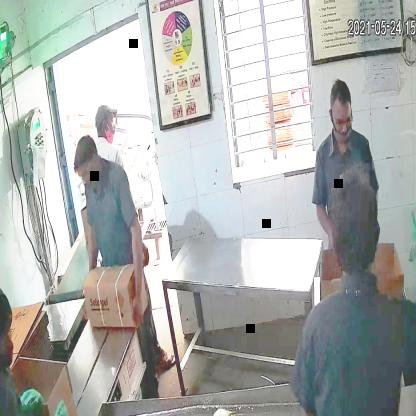goggles: (328, 106, 354, 132)
